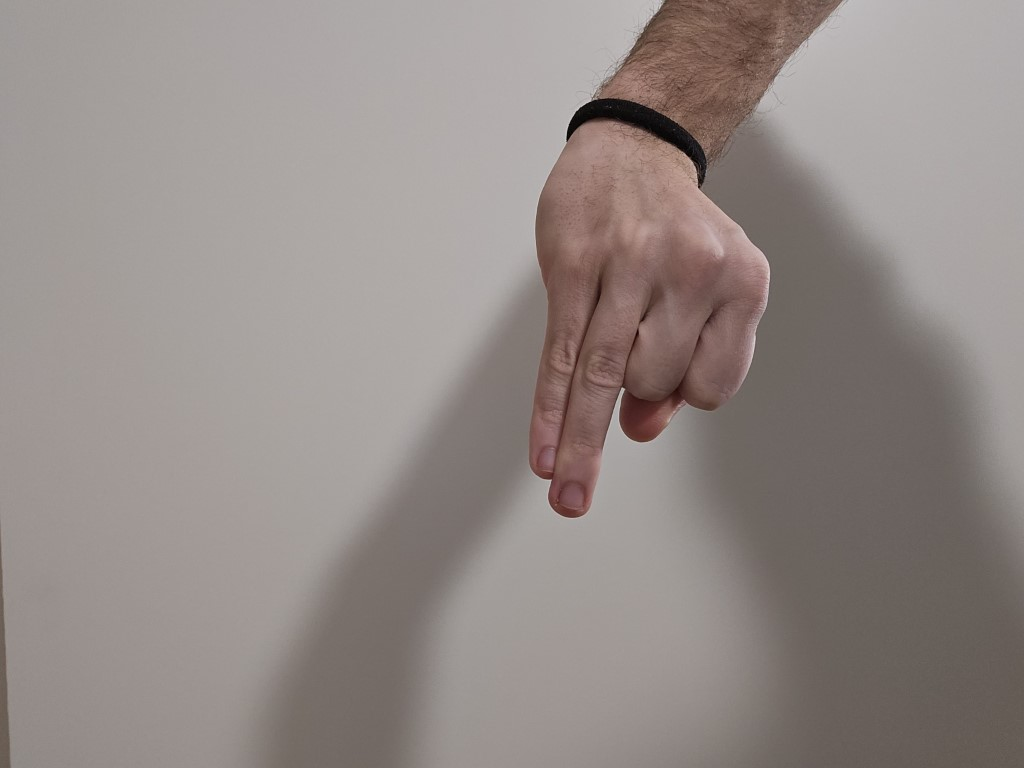n: (519, 135, 781, 536)
